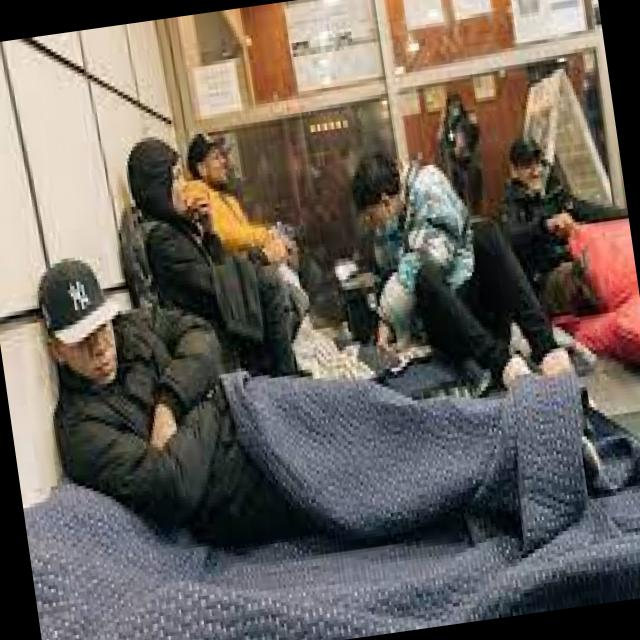Jacket: (25, 304, 284, 562), (110, 192, 310, 414), (348, 198, 496, 368)
